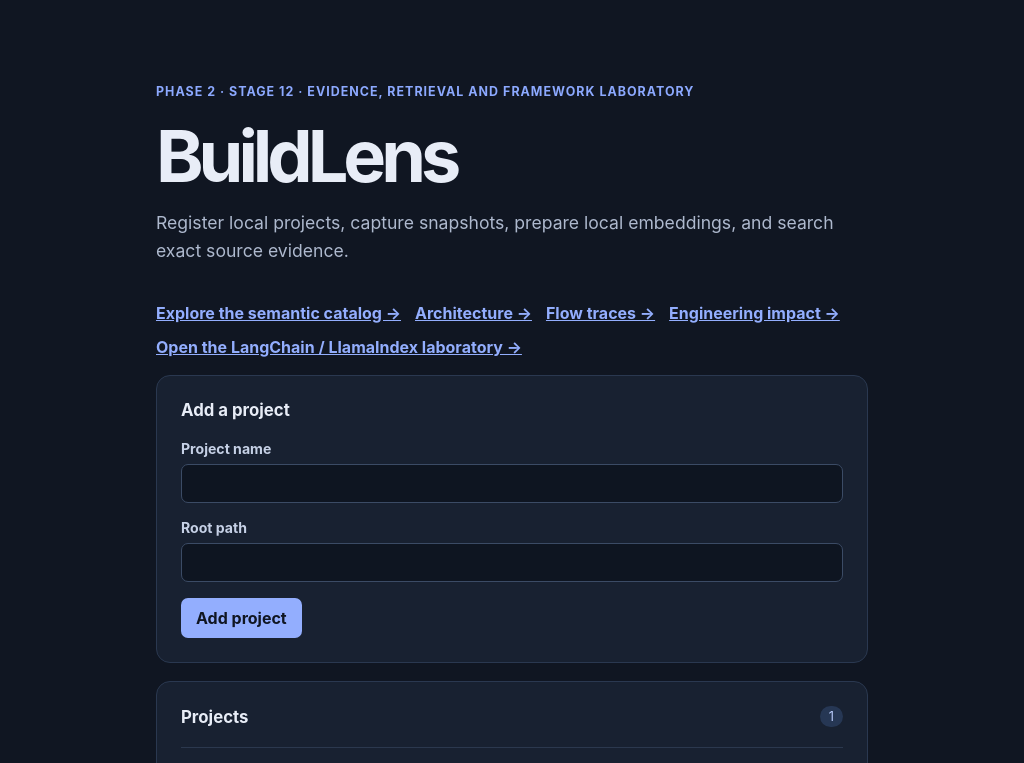
it: BuildLens projects screen › loads projects from the API and creates a new project
Type "New project" into the field labelled "Project name" at (512, 484), box x1=181 y1=464 x2=843 y2=503
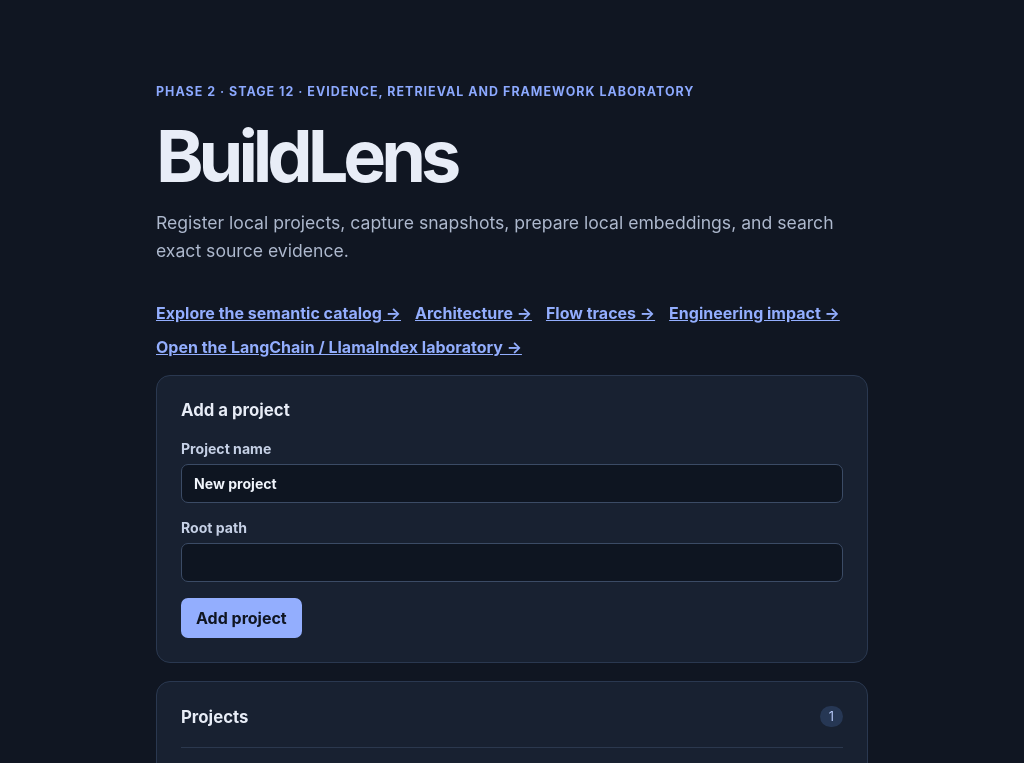
Type "/work/new" into the field labelled "Root path" at (512, 563), box x1=181 y1=543 x2=843 y2=582
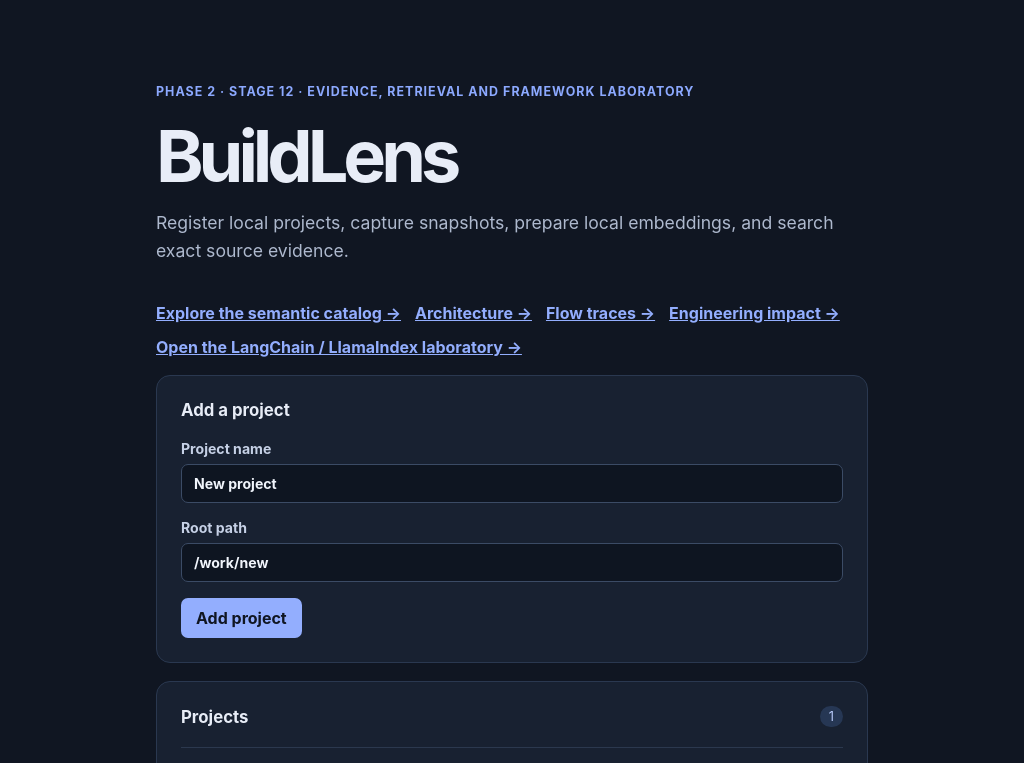
Click the button "Add project" at (241, 618), box x1=181 y1=598 x2=302 y2=638
(page scrolled)
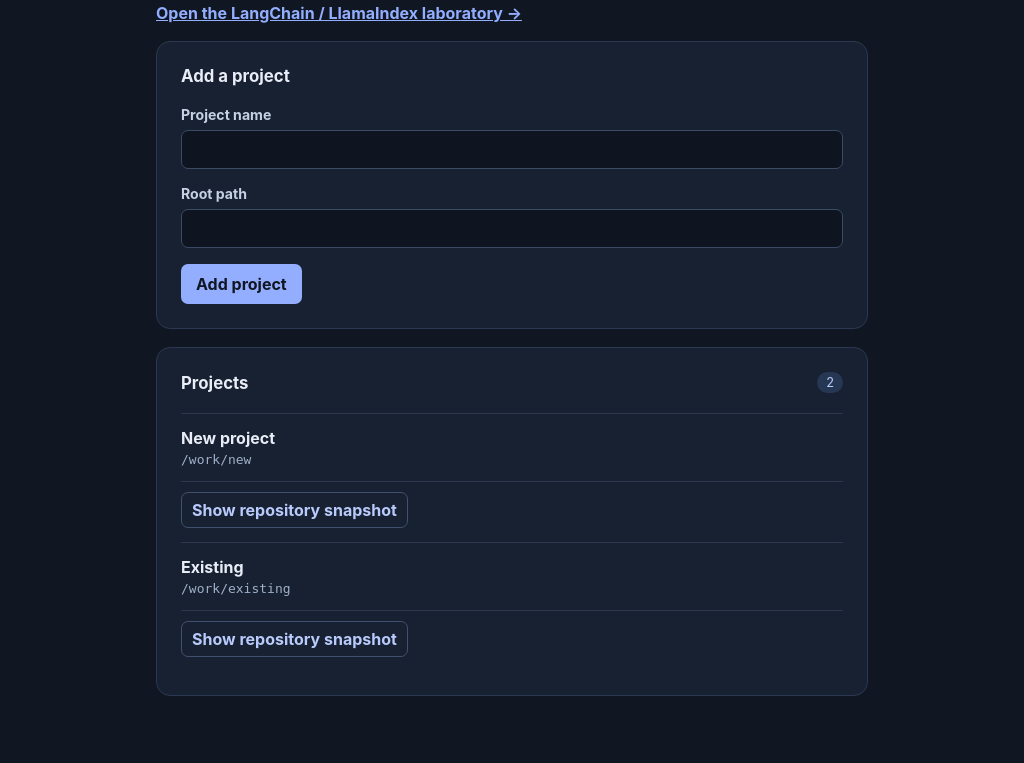
Expected: the text "New project" is shown, x1=181 y1=428 x2=275 y2=448
